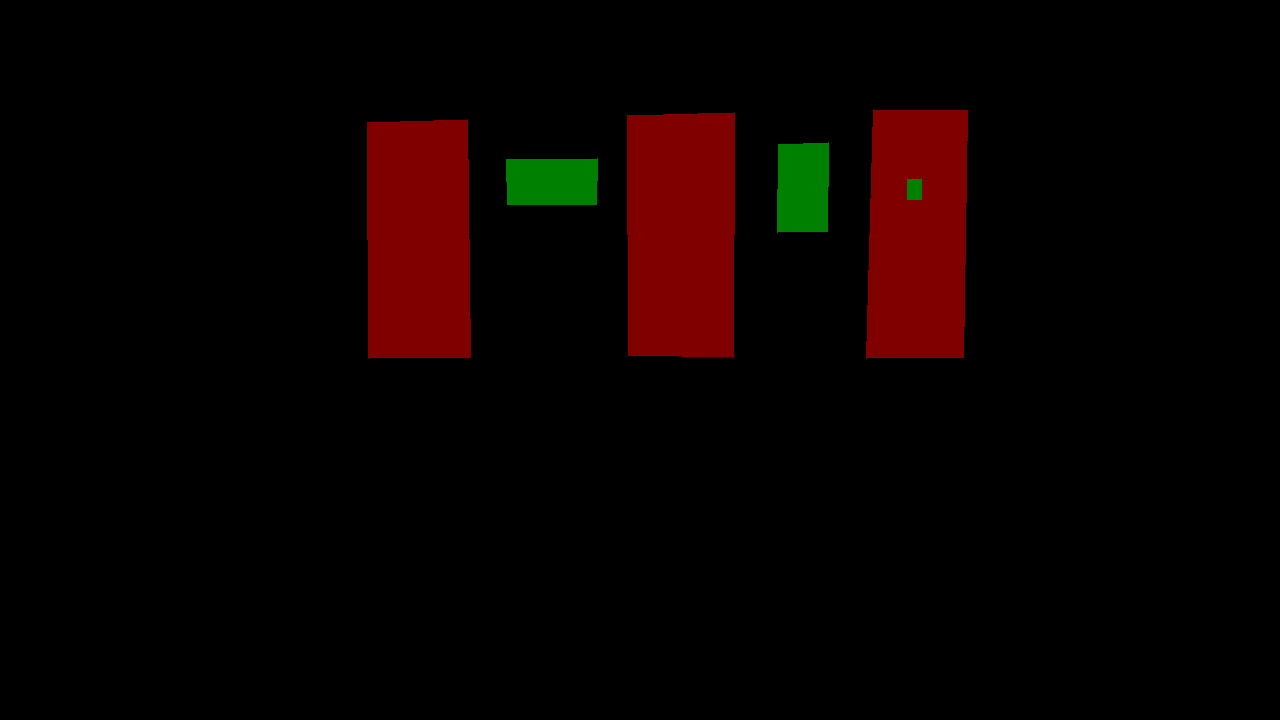door: (627, 112, 734, 357), (866, 109, 967, 358), (367, 119, 470, 358)
sign: (777, 142, 828, 232), (506, 158, 597, 204), (907, 178, 921, 199)
